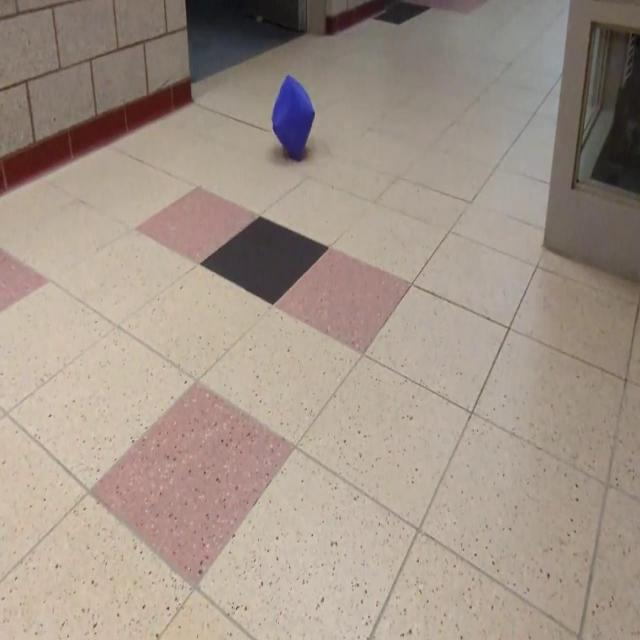frc_cube: (271, 76, 315, 162)
